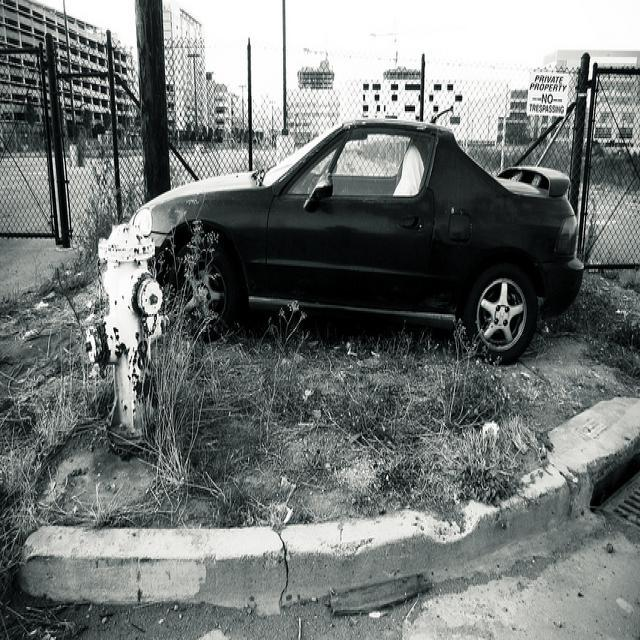fire_hydrant: (85, 221, 164, 458)
